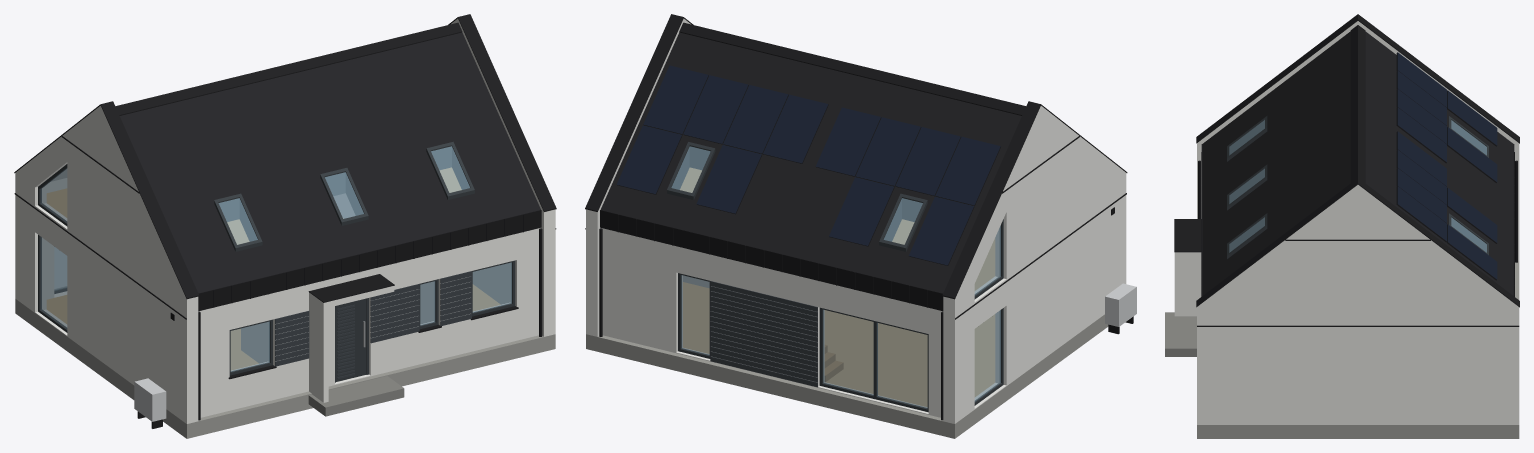
Rendered from dom_smart_comfort_antracyt.obj.
3 renders of one model, left to right at view 1: azimuth 30°, elevation 25°; view 2: azimuth 150°, elevation 25°; view 3: azimuth 270°, elevation 25°, orthographic. The views are drawn at different scales.
Visible parts, largest first — view 1: Dach_–_połać_frontowa, Ściana_szczytowa_lewa, Ściana_frontowa, Płyta_fundamentowa, Pas_okapowy_frontowy, Deska_elewacyjna_–_front, O1_<O1_okno_130x130>, Gąsior, Ściana_szczytowa_prawa, Opierzenie_ściany_szczytowej_lewej, Opierzenie_ściany_szczytowej_prawej, DZ_<DZ_drzwi_zewnętrzne_90x210> (+17 smaller); view 2: Dach_–_połać_ogrodowa, Instalacja_fotowoltaiczna, Ściana_szczytowa_lewa, Ściana_ogrodowa, Posadzka_parteru, Płyta_fundamentowa, Deska_elewacyjna_–_ogród, Ot1_<Ot1_okno_przesuwne_HS_320x220>, Pas_okapowy_ogrodowy, Gąsior, Opierzenie_ściany_szczytowej_lewej, Opierzenie_ściany_szczytowej_prawej (+8 smaller); view 3: Ściana_szczytowa_prawa, Dach_–_połać_frontowa, Instalacja_fotowoltaiczna, Dach_–_połać_ogrodowa, Płyta_fundamentowa, Gąsior, Opierzenie_ściany_szczytowej_prawej, Opierzenie_ściany_szczytowej_lewej, Ściana_szczytowa_lewa, Zadaszenie_–_ścianka_boczna, Podest_wejściowy, Zadaszenie_–_obróbka (+6 smaller).
Part boxes in pixels (<box>): Dach_–_połać_frontowa: <box>120,32,540,293</box>; Ściana_szczytowa_lewa: <box>15,106,198,423</box>; Ściana_frontowa: <box>198,228,540,417</box>; Płyta_fundamentowa: <box>15,286,555,438</box>; Pas_okapowy_frontowy: <box>198,210,541,311</box>; Deska_elewacyjna_–_front: <box>275,271,471,366</box>; O1_<O1_okno_130x130>: <box>229,260,515,375</box>; Gąsior: <box>115,22,462,115</box>; Ściana_szczytowa_prawa: <box>451,18,555,336</box>; Opierzenie_ściany_szczytowej_lewej: <box>14,101,199,299</box>; Opierzenie_ściany_szczytowej_prawej: <box>448,14,556,211</box>; DZ_<DZ_drzwi_zewnętrzne_90x210>: <box>335,298,368,382</box>; Dach_–_połać_ogrodowa: <box>600,32,1021,293</box>; Instalacja_fotowoltaiczna: <box>616,65,1000,265</box>; Ściana_szczytowa_lewa: <box>943,106,1126,423</box>; Ściana_ogrodowa: <box>601,228,942,417</box>; Posadzka_parteru: <box>683,282,994,406</box>; Płyta_fundamentowa: <box>586,314,1108,438</box>; Deska_elewacyjna_–_ogród: <box>710,281,817,387</box>; Ot1_<Ot1_okno_przesuwne_HS_320x220>: <box>819,307,928,412</box>; Pas_okapowy_ogrodowy: <box>600,210,943,311</box>; Gąsior: <box>679,22,1025,115</box>; Opierzenie_ściany_szczytowej_lewej: <box>942,101,1127,299</box>; Opierzenie_ściany_szczytowej_prawej: <box>585,14,693,211</box>; Ściana_szczytowa_prawa: <box>1197,185,1519,424</box>; Dach_–_połać_frontowa: <box>1202,31,1350,295</box>; Instalacja_fotowoltaiczna: <box>1396,52,1497,280</box>; Dach_–_połać_ogrodowa: <box>1365,32,1513,295</box>; Płyta_fundamentowa: <box>1197,261,1519,438</box>; Gąsior: <box>1350,25,1365,183</box>; Opierzenie_ściany_szczytowej_prawej: <box>1196,178,1519,307</box>; Opierzenie_ściany_szczytowej_lewej: <box>1196,14,1519,143</box>; Ściana_szczytowa_lewa: <box>1197,21,1519,261</box>; Zadaszenie_–_ścianka_boczna: <box>1174,258,1201,316</box>; Podest_wejściowy: <box>1165,312,1196,356</box>; Zadaszenie_–_obróbka: <box>1174,219,1201,252</box>.
Size of what is drawn, in the model's own units: 11.34 by 7.52 by 9.46.
